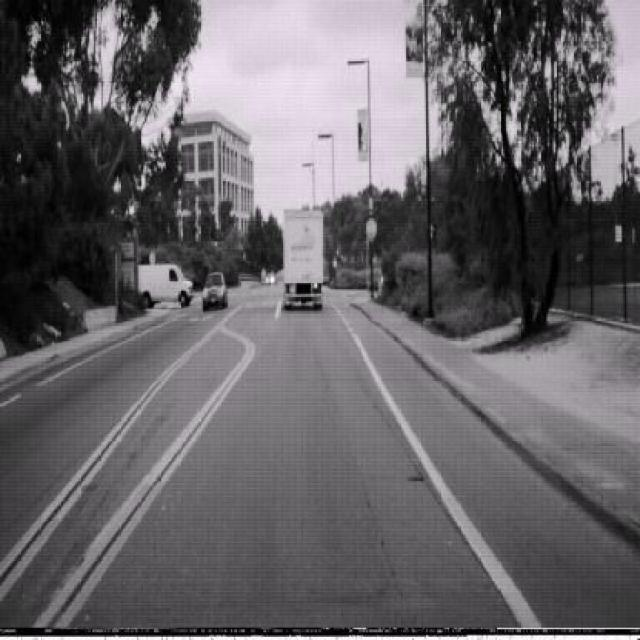stop: (366, 217, 378, 240)
